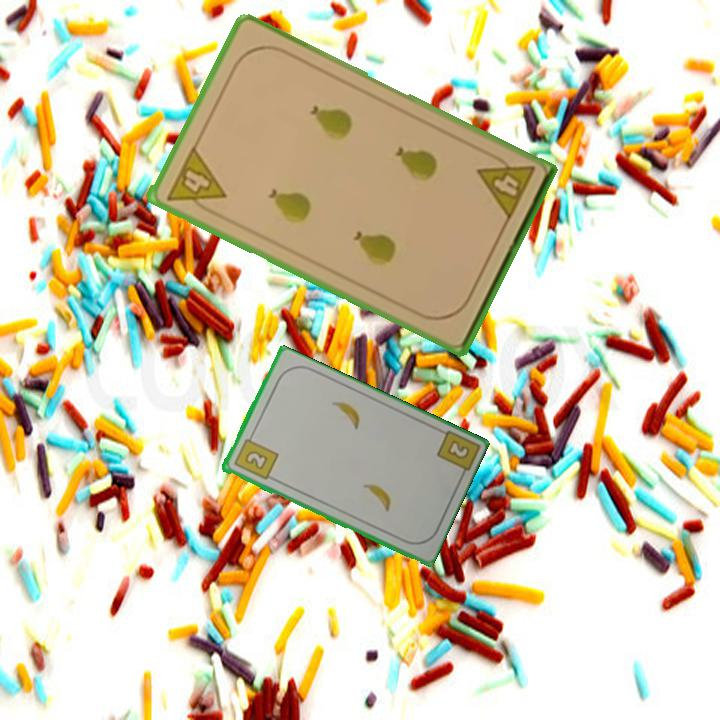2b: (230, 431, 280, 483), (443, 437, 472, 462)
4p: (162, 142, 228, 219), (473, 148, 538, 224)
